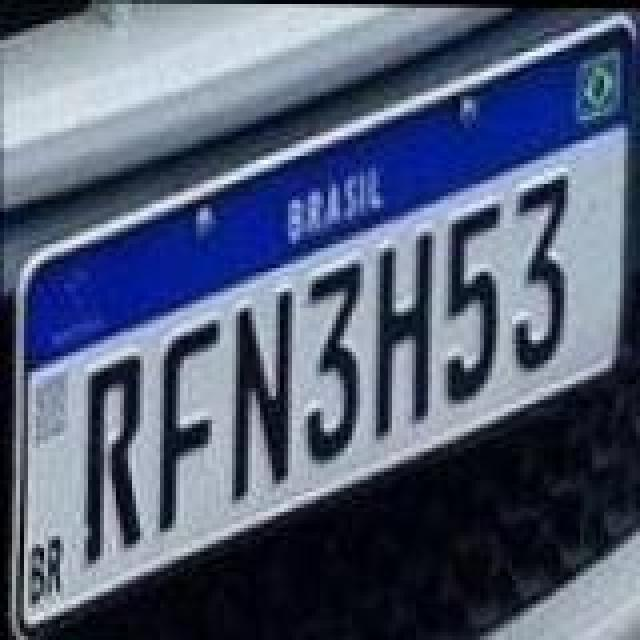3: (308, 254, 368, 466), (508, 166, 568, 374)
5: (444, 198, 504, 406)
F: (152, 320, 220, 532)
H: (370, 224, 434, 440)
N: (230, 288, 294, 504)
R: (82, 354, 146, 570)
